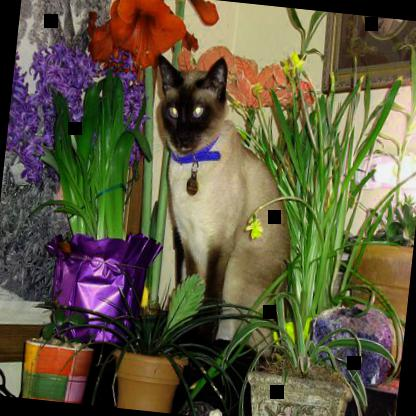cat: (126, 48, 310, 358)
